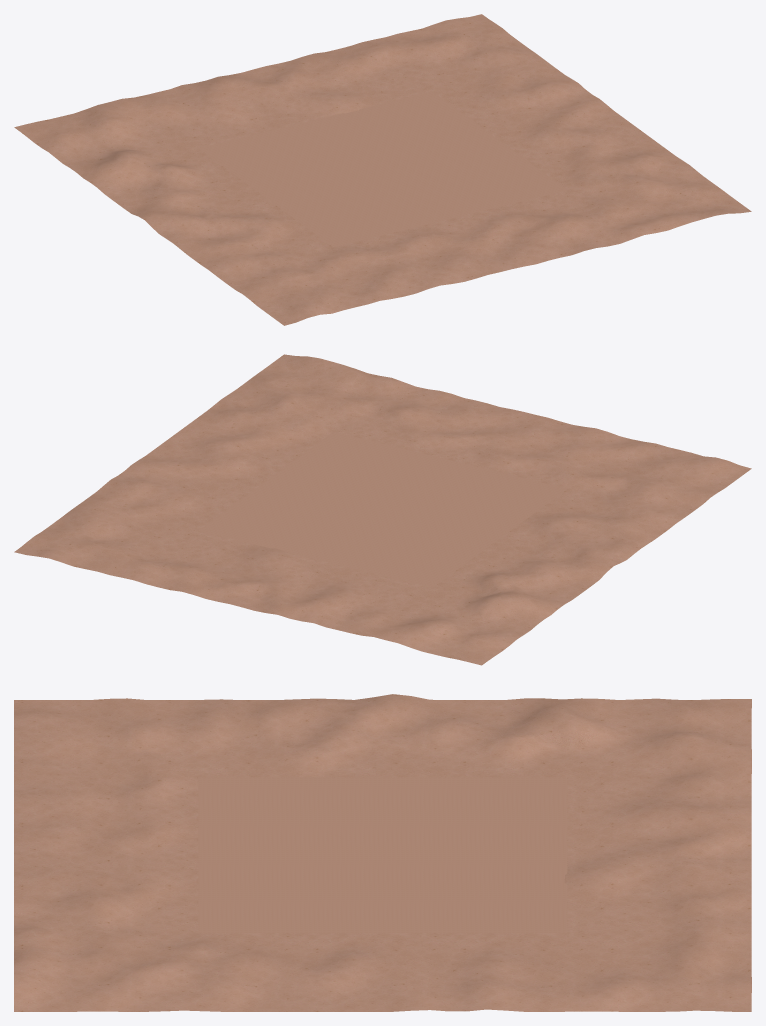
File: desert.glb
The picture shows the model from 3 angles, top to bottom: view 1: azimuth 30°, elevation 25°; view 2: azimuth 150°, elevation 25°; view 3: azimuth 270°, elevation 25°; orthographic projection. The views are drawn at different scales.
Parts seen in each view (by area): view 1: Plane; view 2: Plane; view 3: Plane.
Boxes of the visible parts, x1=… form: Plane: x1=14, y1=14, x2=751, y2=325; Plane: x1=14, y1=354, x2=751, y2=665; Plane: x1=14, y1=694, x2=751, y2=1011.
Bounding box in the file's own units: 401 × 6.99 × 400.
Materials: 1 (1 with a texture image).
